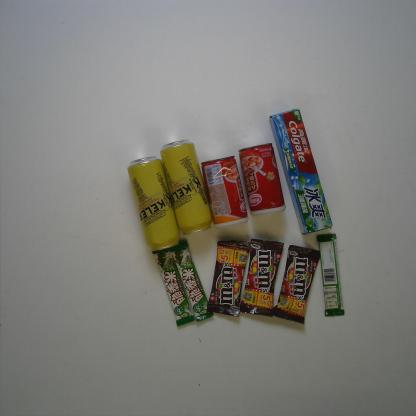Alcohol: (127, 154, 180, 252), (159, 138, 212, 236)
Canned Food: (238, 142, 288, 217), (200, 154, 249, 229)
Chocolate: (272, 243, 320, 325), (169, 239, 215, 323), (239, 237, 285, 319), (151, 246, 196, 328), (206, 238, 251, 318), (316, 232, 345, 318)
Personal Hygiene: (268, 106, 334, 236)
